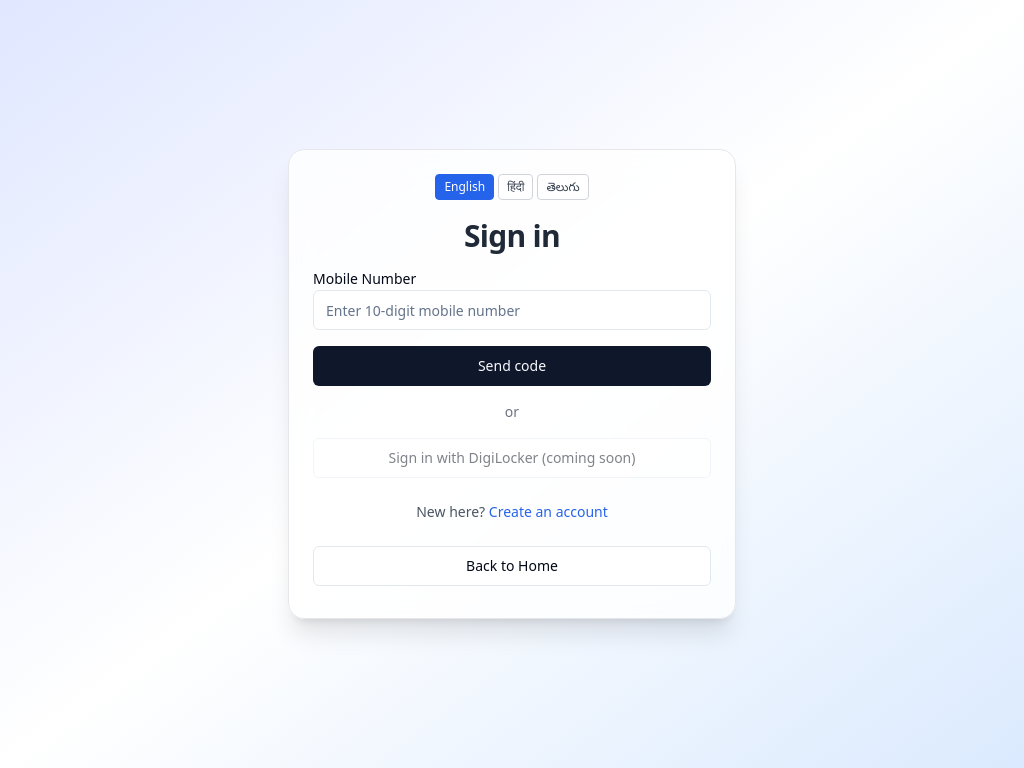
login › shows a clear message for a wrong or expired code
Type "9000000001" into the field labelled "Mobile Number" at (512, 310), box [313,290,711,330]
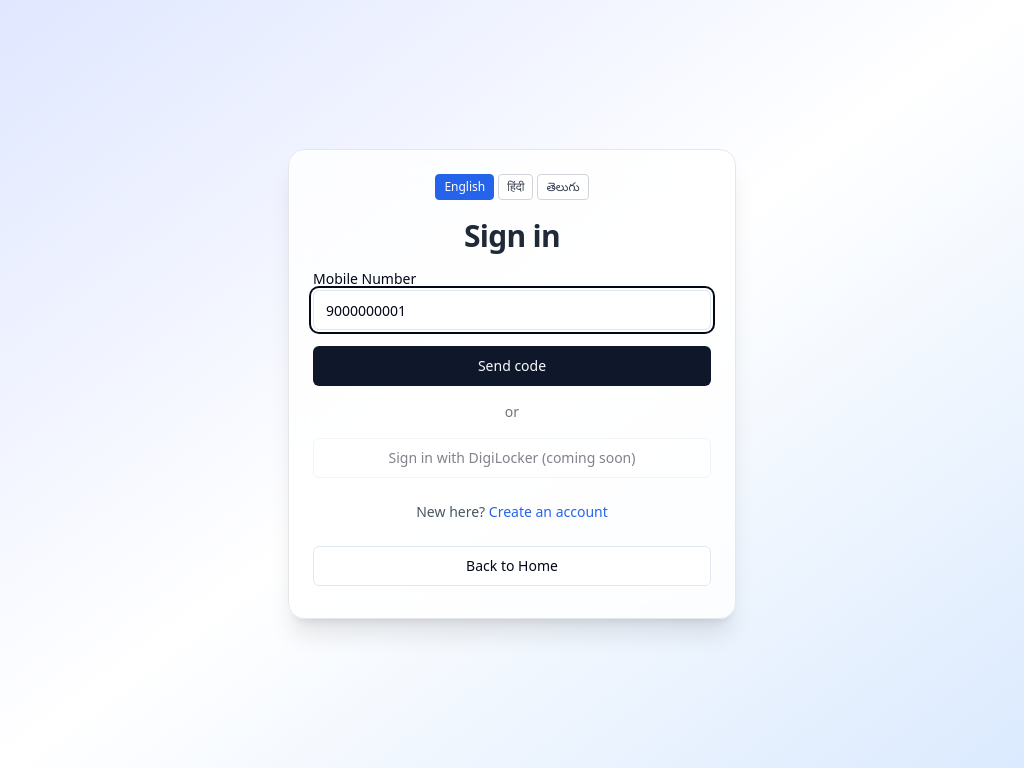
Click the button "Send code" at (512, 366), box [313,346,711,386]
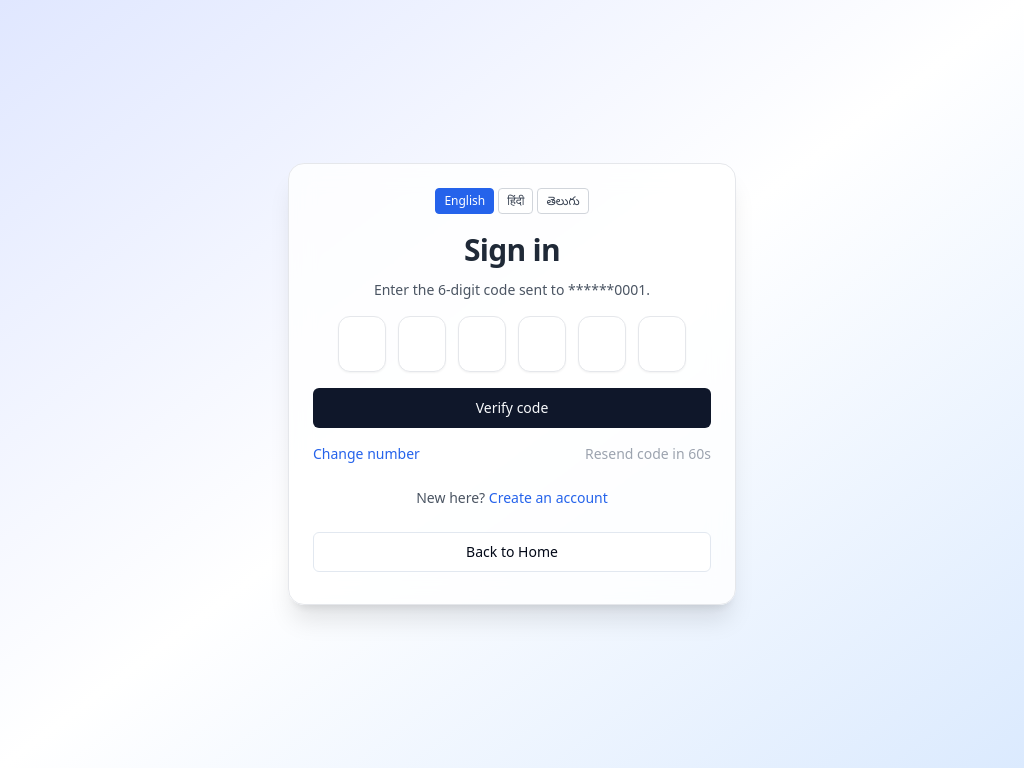
Type "000000" into the field named "digit" at (362, 344), box [338,316,386,372]
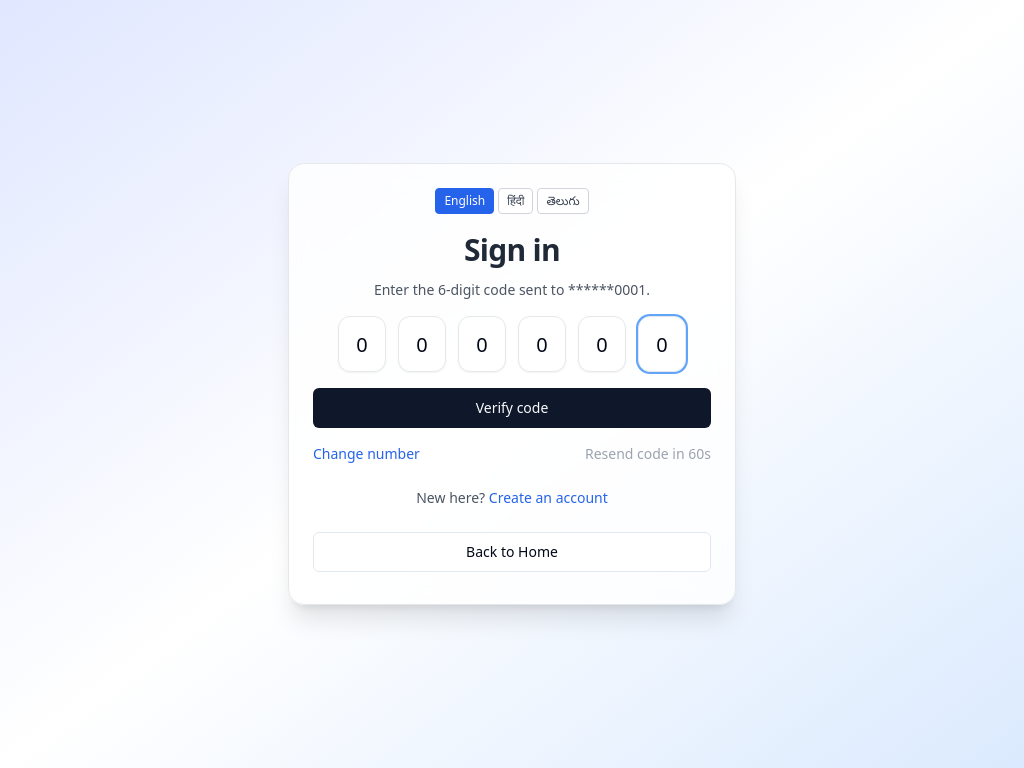
Click the button "Verify code" at (512, 408), box [313,388,711,428]
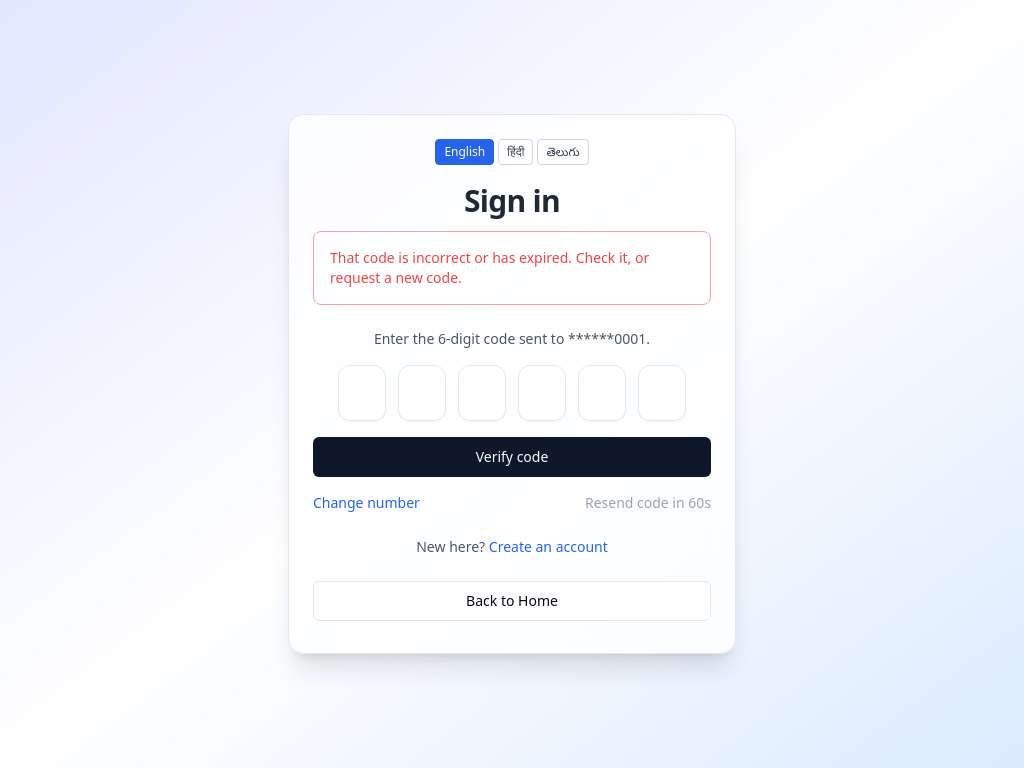
Now the message shows "incorrect or has expired", box [330,248,649,287]
